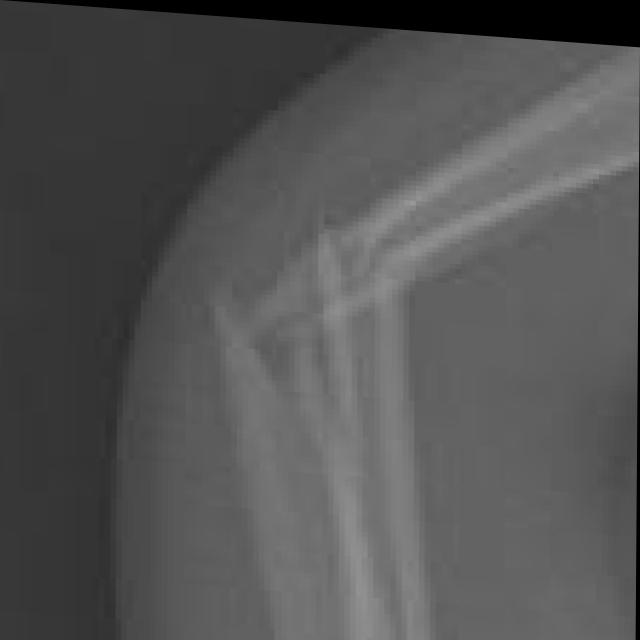fracture: (0, 15, 639, 640)
